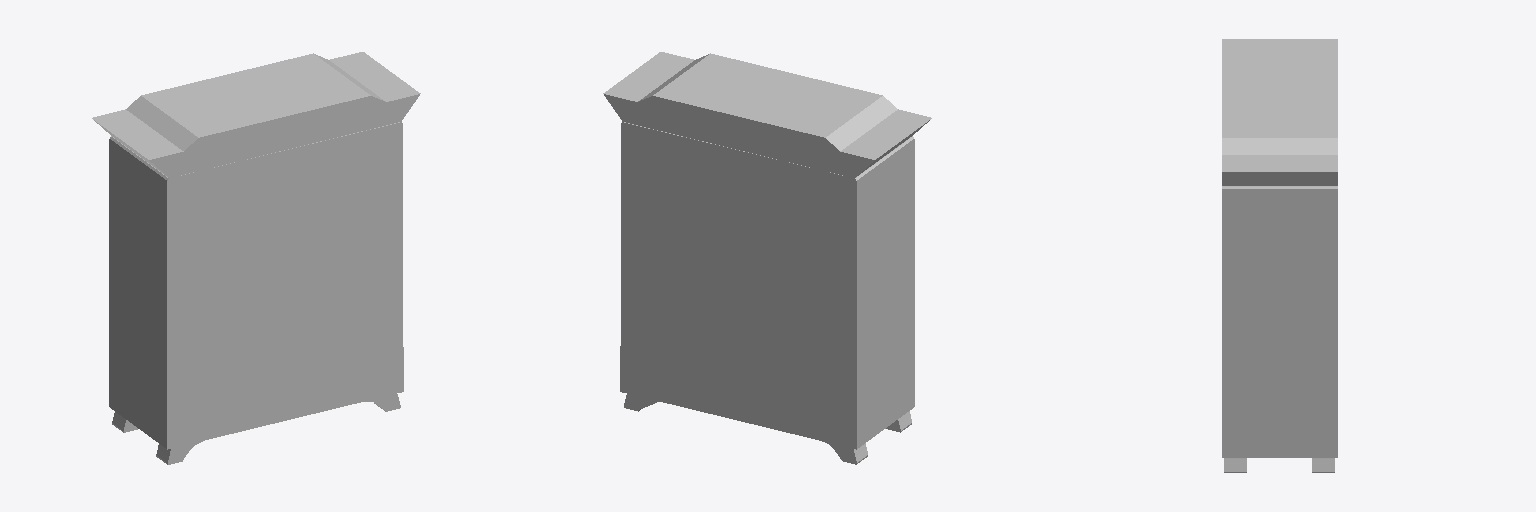
Rendered from Closet.obj.
The picture shows the model from 3 angles: view 1: azimuth 30°, elevation 25°; view 2: azimuth 150°, elevation 25°; view 3: azimuth 270°, elevation 25°; orthographic projection.
Parts seen in each view (by area): view 1: Armario_Cube.059; view 2: Armario_Cube.059; view 3: Armario_Cube.059.
Part boxes in pixels (bbox=[...]): Armario_Cube.059: bbox=[92, 52, 420, 464]; Armario_Cube.059: bbox=[603, 52, 931, 464]; Armario_Cube.059: bbox=[1222, 39, 1337, 472].
Bounding box in the file's own units: 2.67 × 3.01 × 0.9841.